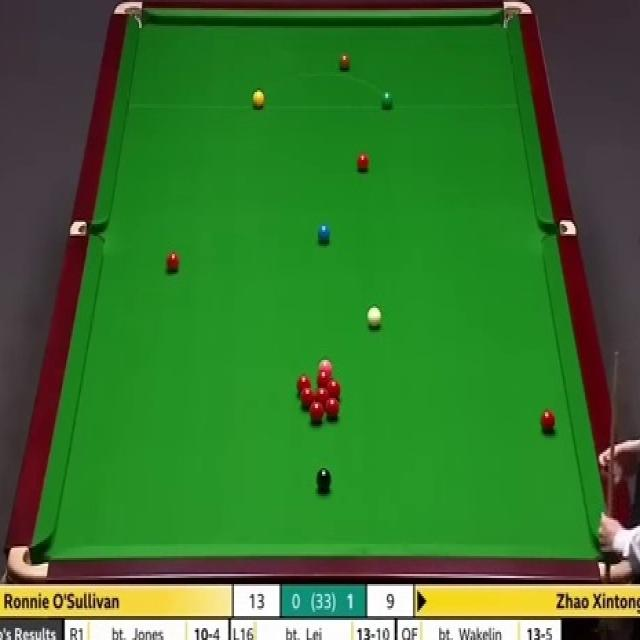pocket: (10, 550, 48, 578), (505, 0, 533, 26), (598, 552, 627, 576), (114, 3, 143, 26), (539, 221, 575, 237), (70, 222, 105, 236)
